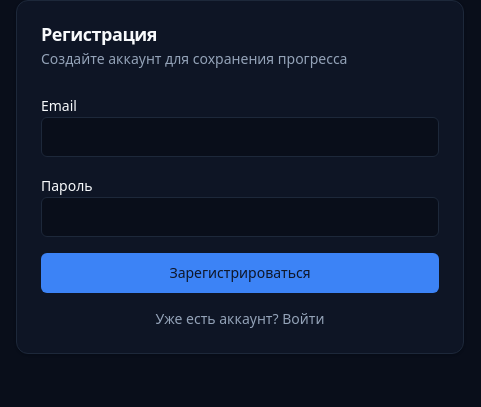
Test case: RegisterForm › shows error on failed registration
In the field labelled "Email": (240, 137) [41, 117, 439, 157], type "test@example.com"
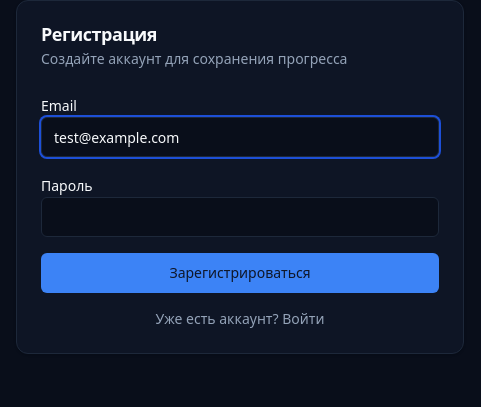
In the password field labelled "Пароль": (240, 217) [41, 197, 439, 237], type "secret123"
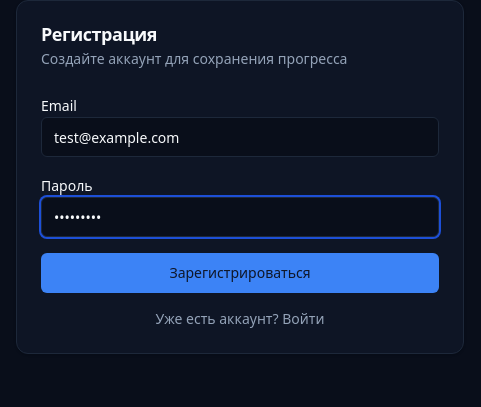
Click the button "Зарегистрироваться": click(240, 273) [41, 253, 439, 293]
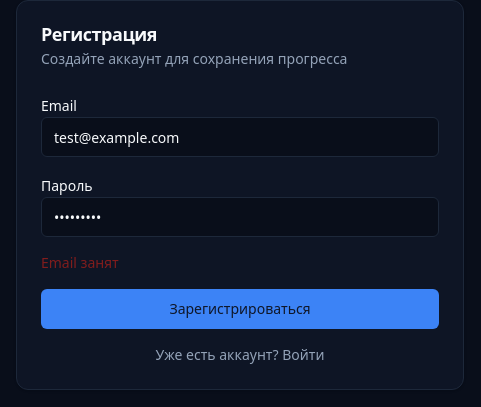
Now the text "Email занят" is shown, box [41, 253, 119, 272]
